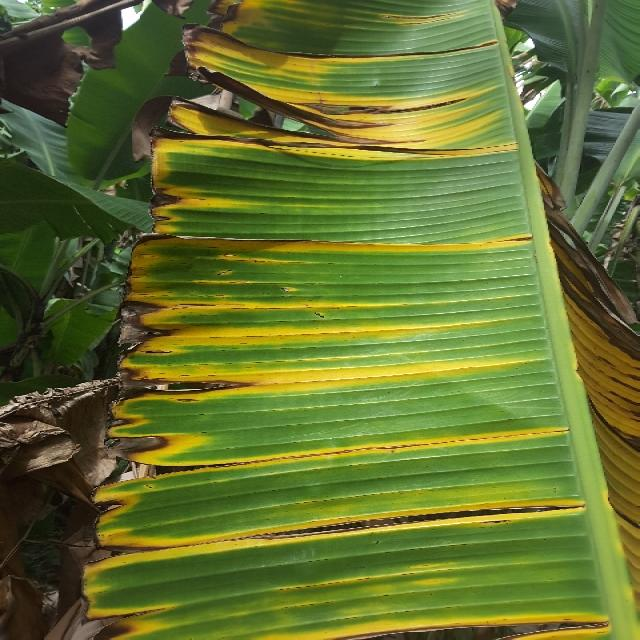Bract_mosaic_virus: (0, 378, 90, 640), (0, 0, 107, 140)
Cordana: (84, 0, 640, 640)
